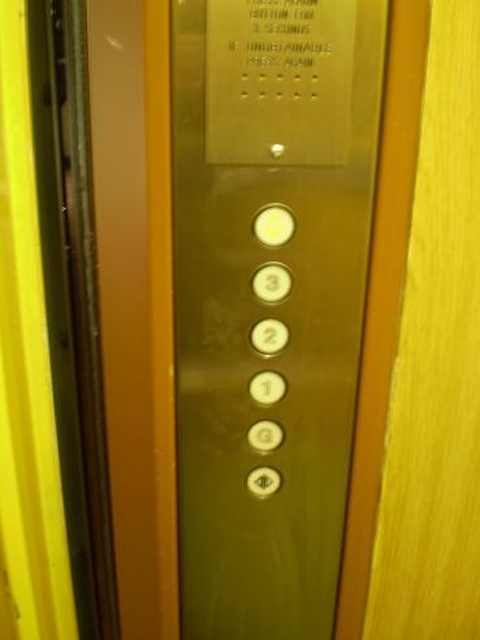1: (246, 367, 289, 408)
2: (246, 314, 294, 359)
3: (248, 259, 297, 306)
G: (245, 416, 287, 454)
empty: (251, 200, 299, 251)
open: (244, 463, 284, 500)
